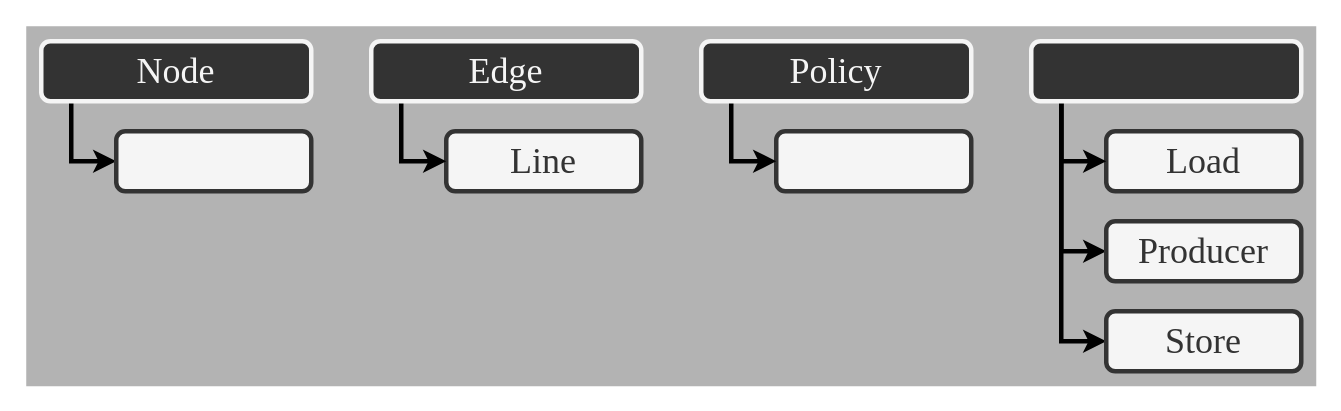
This 1341x411 diagram has some shape labels left out. Each missing label, with the centre of its shape:
Asset: (1165,70)
Region: (213,160)
RPS: (873,160)
